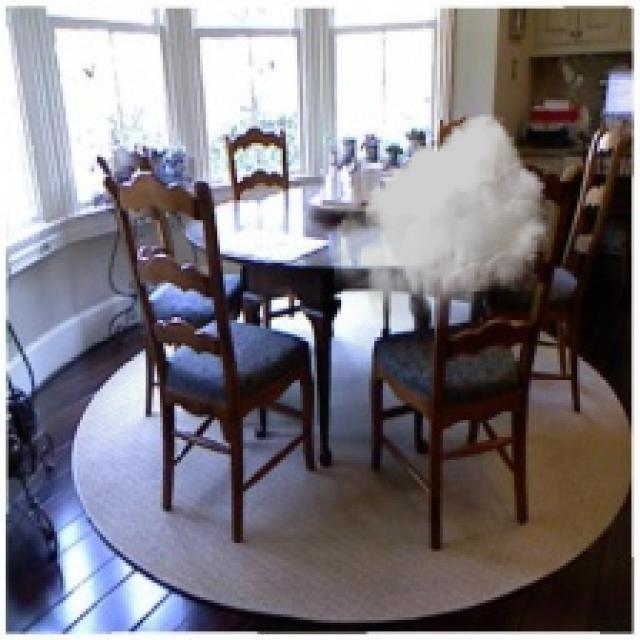Smoke: (334, 114, 549, 329)
